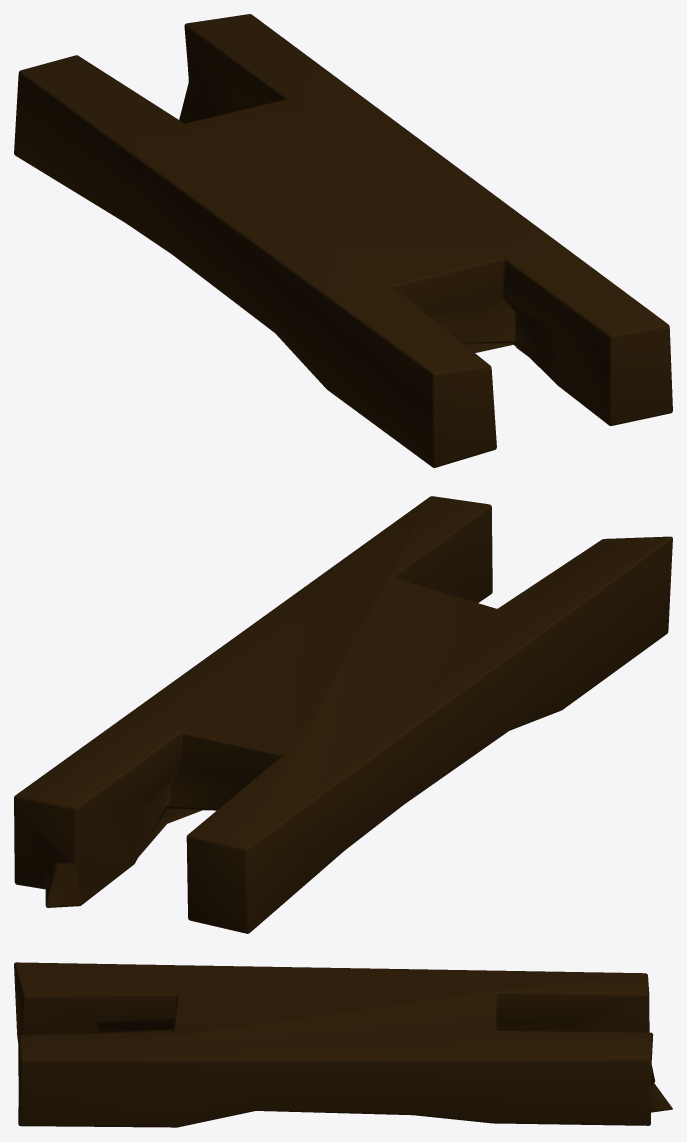
Rendered from Rocks Stair Collider.fbx.
The picture shows the model from 3 angles, top to bottom: view 1: azimuth 30°, elevation 25°; view 2: azimuth 150°, elevation 25°; view 3: azimuth 270°, elevation 25°; orthographic projection. The views are drawn at different scales.
Visible parts, largest first — view 1: rocks to underground collider; view 2: rocks to underground collider; view 3: rocks to underground collider.
Part boxes in pixels (x1,y1,x2,y2): rocks to underground collider: [14, 14, 672, 467]; rocks to underground collider: [14, 496, 672, 933]; rocks to underground collider: [14, 962, 672, 1127].
Size of the model in its own units: 926 by 2885 by 380.
